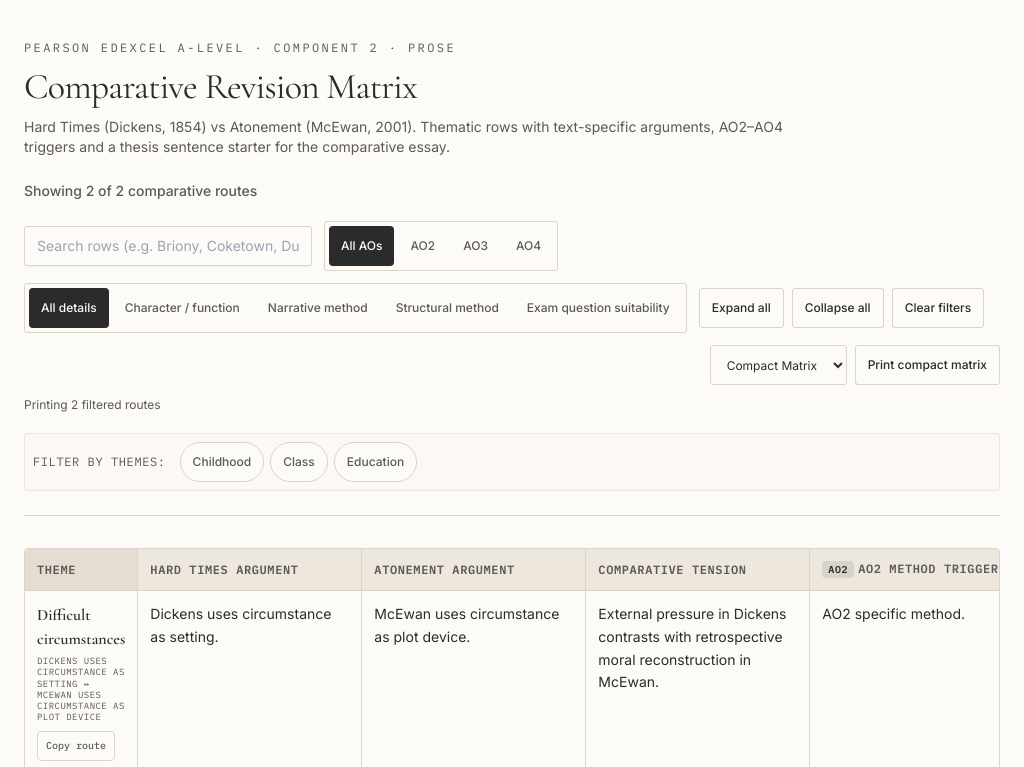
Test: ComparativeMatrix › updates the filtered print count after theme chip selection
Check: the text "Showing 2 of 2 comparative routes" is shown, box [24, 182, 257, 199]
What coordinates should you click on to do the following:
click the button with aria-label "Toggle Class theme filter"
I would click on:
 (299, 462)
Its box is [270, 442, 328, 482].
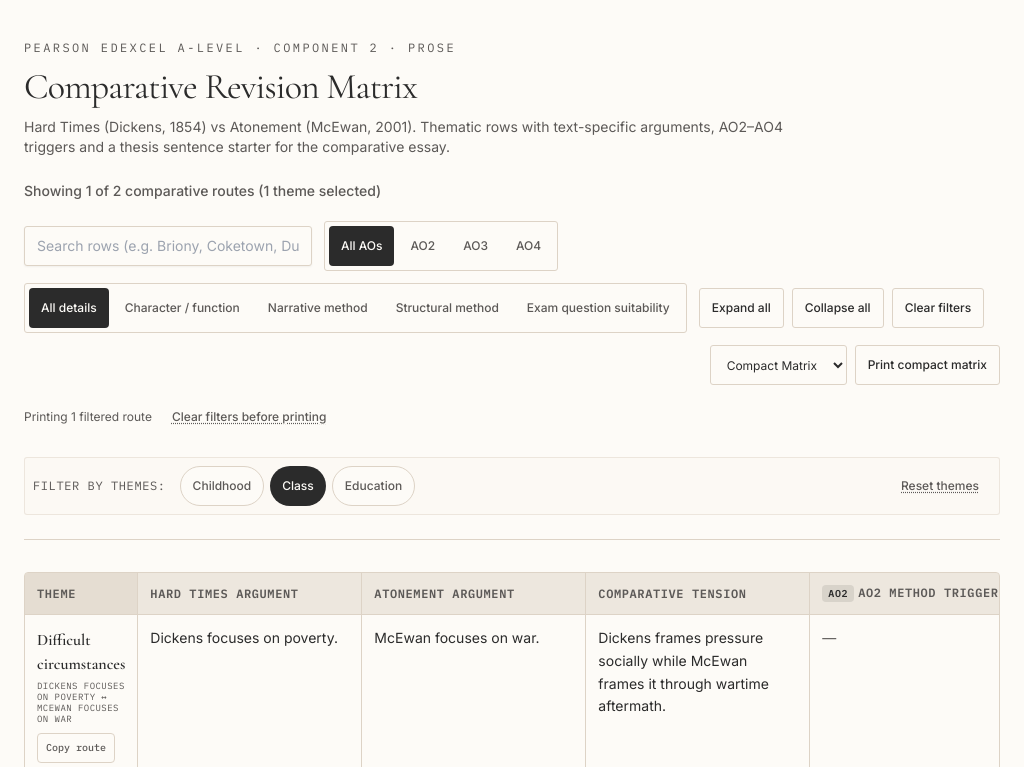
Check: the text "Showing 1 of 2 comparative routes (1 theme selected)" is shown, box [24, 182, 381, 199]
